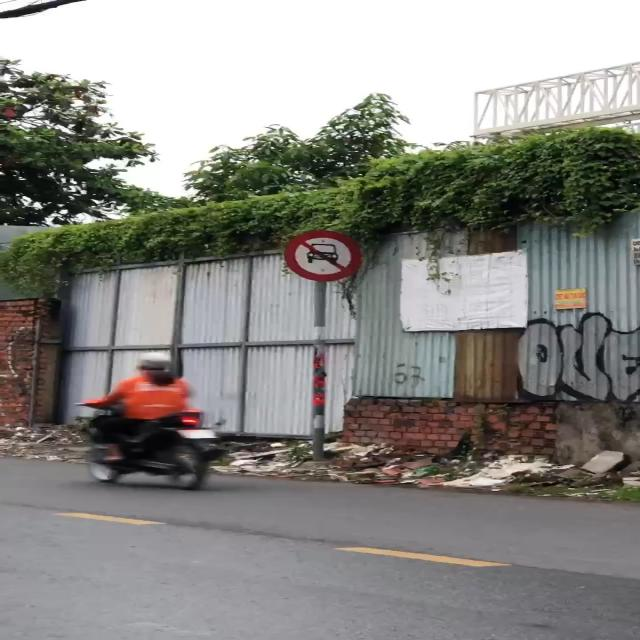Bien bao cam xe oto: (281, 228, 368, 281)
